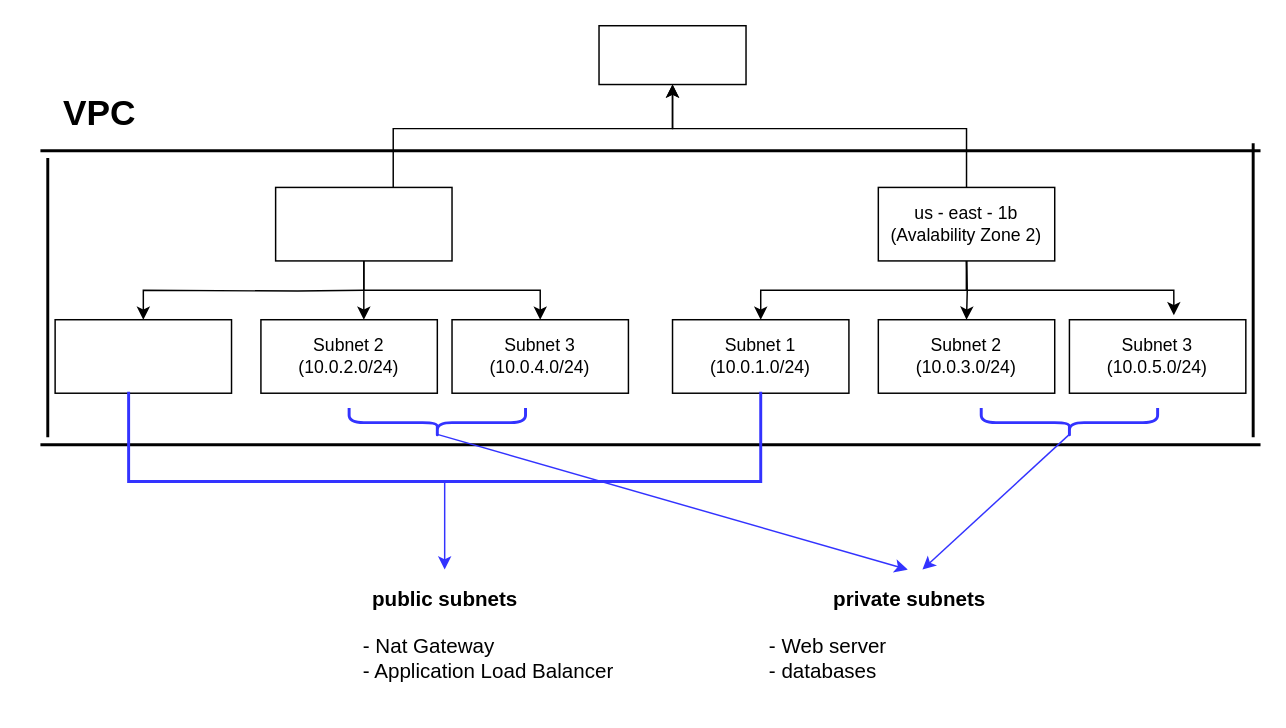
Some shapes in this 1286 by 728 pixel diagram are drawn without their labels. The centre of each missing label's shape, as x and y in pixels:
"Subnet 1 (10.0.0.0/24)" goes at point 143,355.
"us - east - 1" goes at point 672,54.
"us - east - 1a (Avalability Zone 1)" goes at point 363,223.
